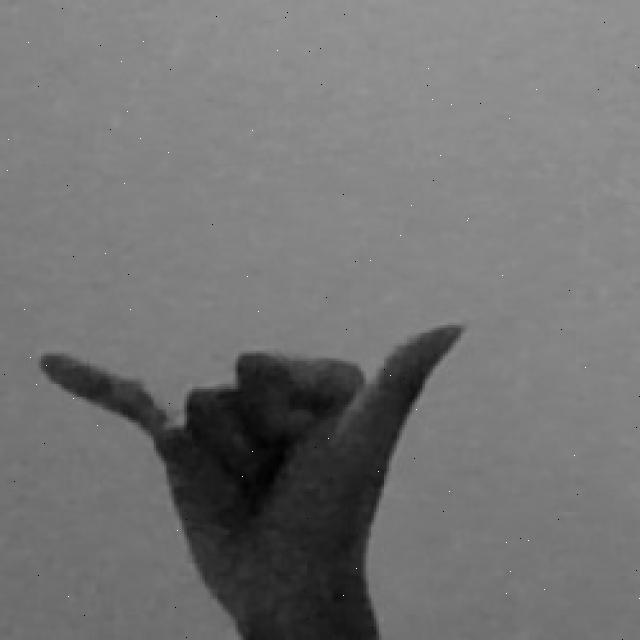Y: (32, 315, 473, 640)
